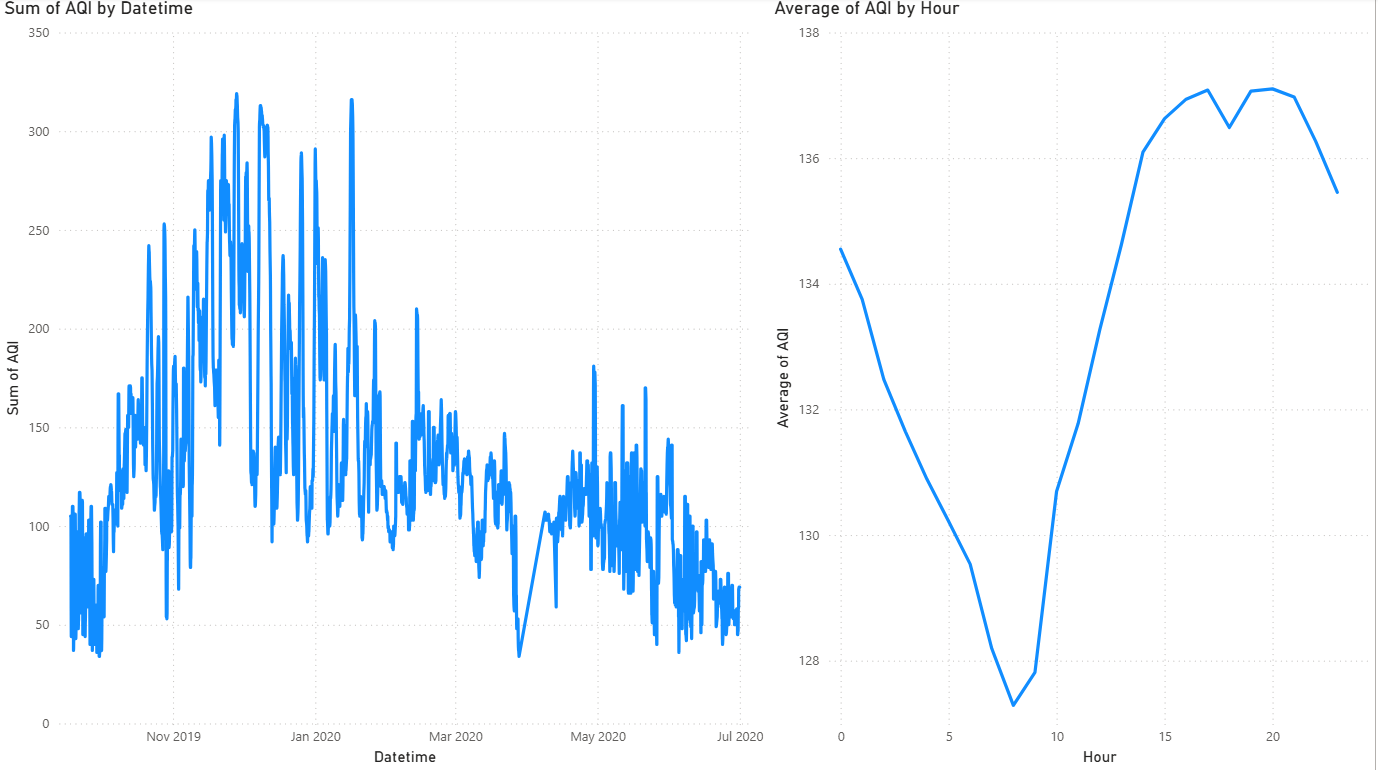

The page's visual inventory and layout, read from the dashboard file:
{"tool":"powerbi","page":{"name":"Trends","canvas":[1280,720],"ordinal":0},"visuals":[{"type":"lineChart","fields":{"Y":["Sum(bhopal_air_quality_for_powerbi.AQI)"],"Category":["bhopal_air_quality_for_powerbi.Datetime"]},"box":[0,0,716.3,719.8],"z":0},{"type":"lineChart","fields":{"Category":["bhopal_air_quality_for_powerbi.Hour"],"Y":["Avg(bhopal_air_quality_for_powerbi.AQI)"]},"box":[716.3,0,564,719.8],"z":1000}]}

Visuals, with their boxes in screenshot pixels (x1, y1, x2, y2), scaled from the page's 1280x720 canvas onto the 1378x770 screenshot:
lineChart - Sum(bhopal_air_quality_for_powerbi.AQI) x bhopal_air_quality_for_powerbi.Datetime: (left=0, top=0, right=771, bottom=769)
lineChart - bhopal_air_quality_for_powerbi.Hour x Avg(bhopal_air_quality_for_powerbi.AQI): (left=771, top=0, right=1377, bottom=769)
